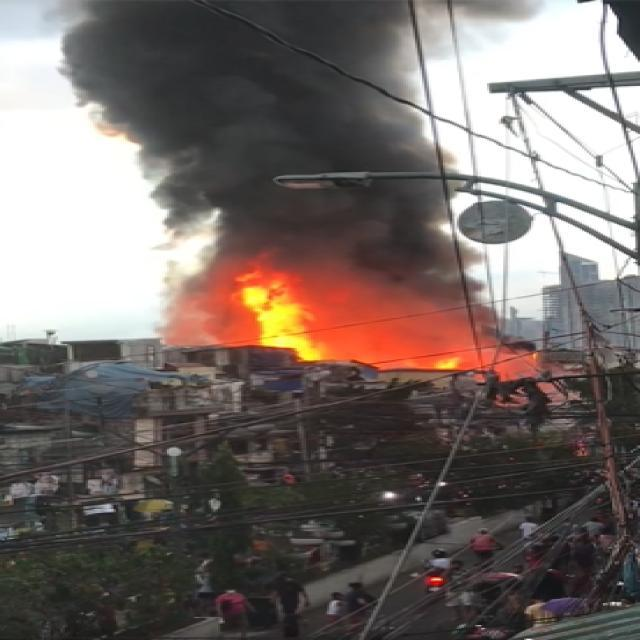Fire: (224, 266, 330, 365), (413, 353, 466, 371)
Smoke: (56, 0, 526, 371)
